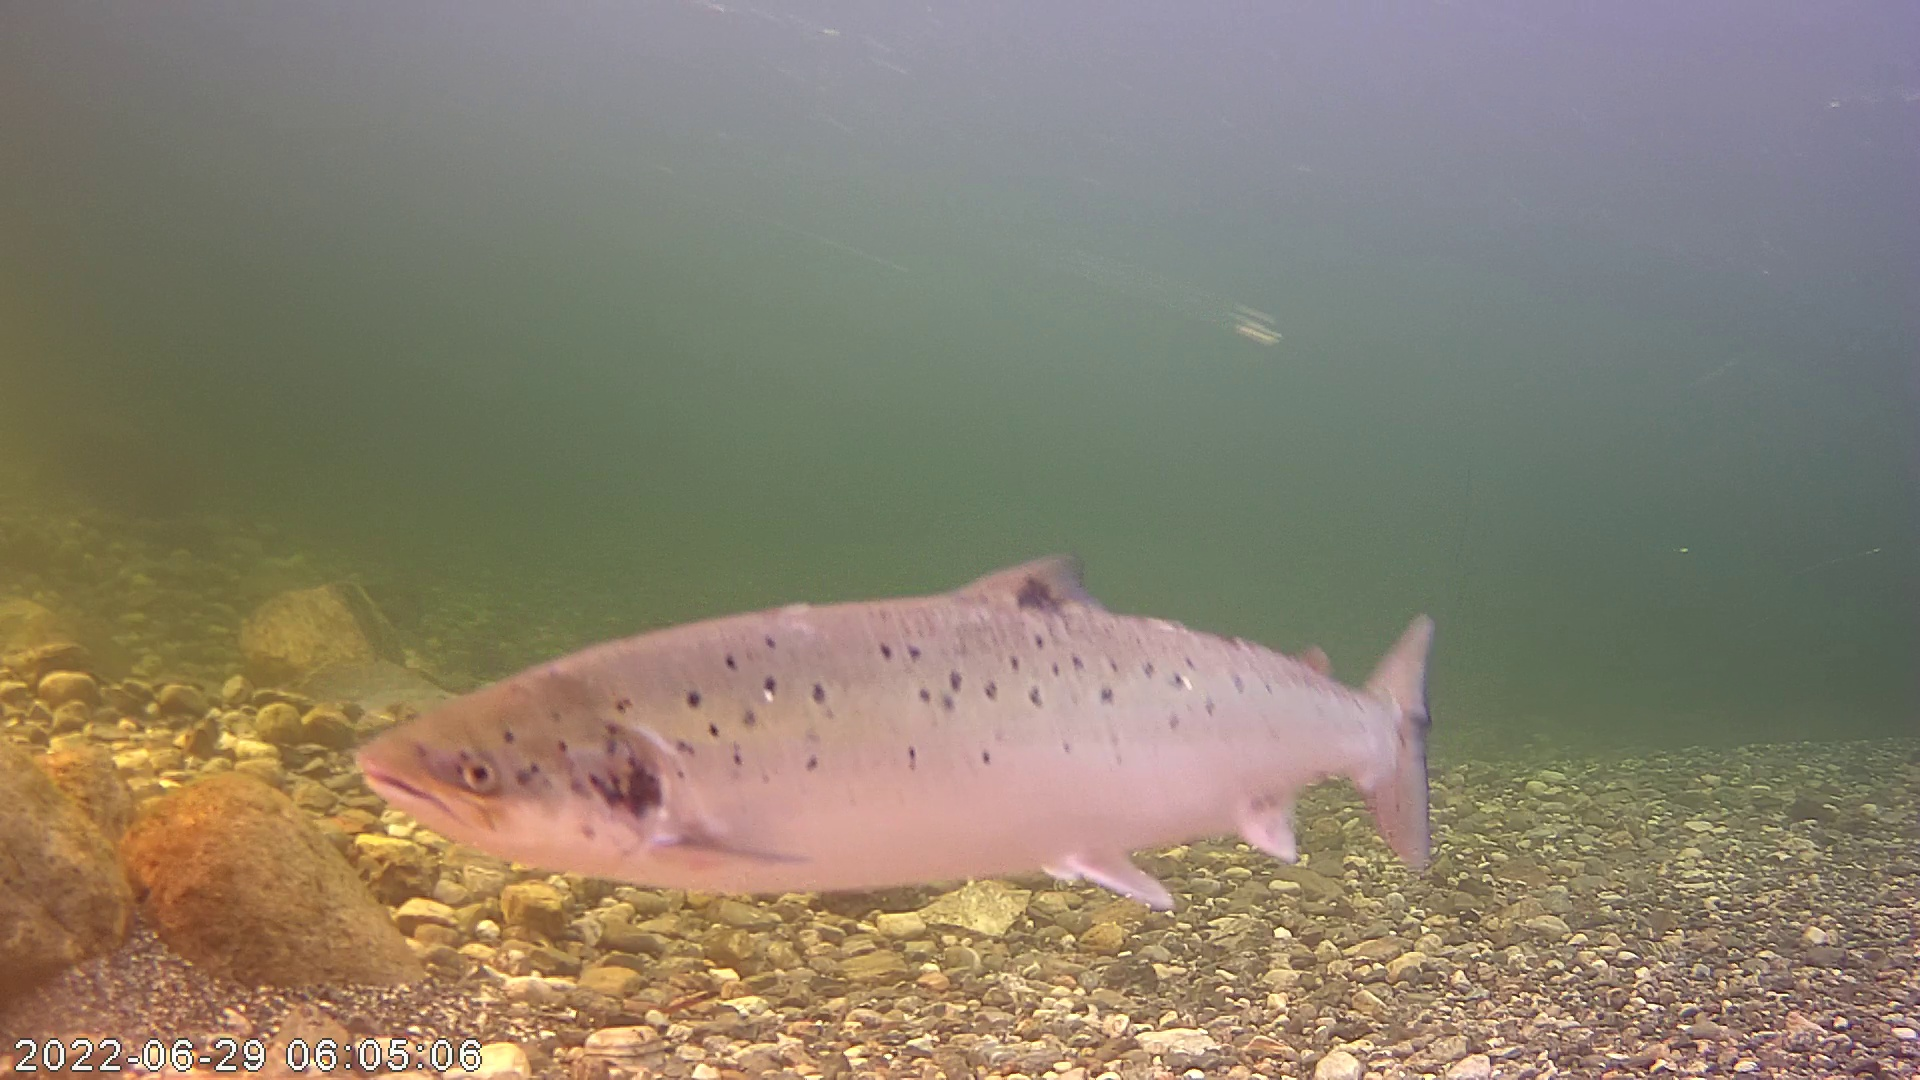salmon: (339, 488, 1448, 934)
